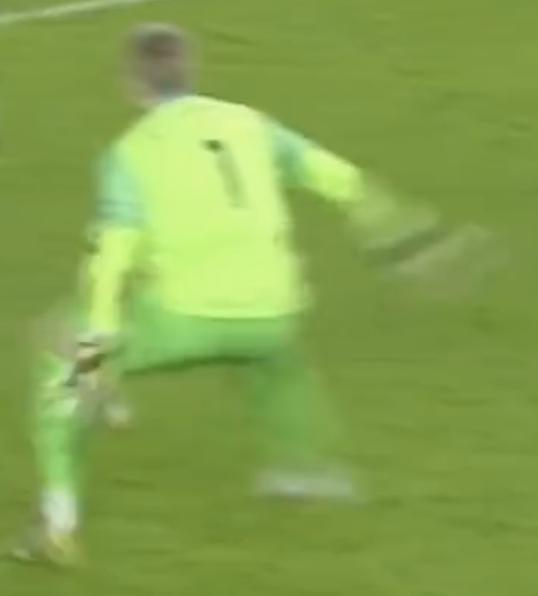goalkeeper: (0, 0, 502, 596)
